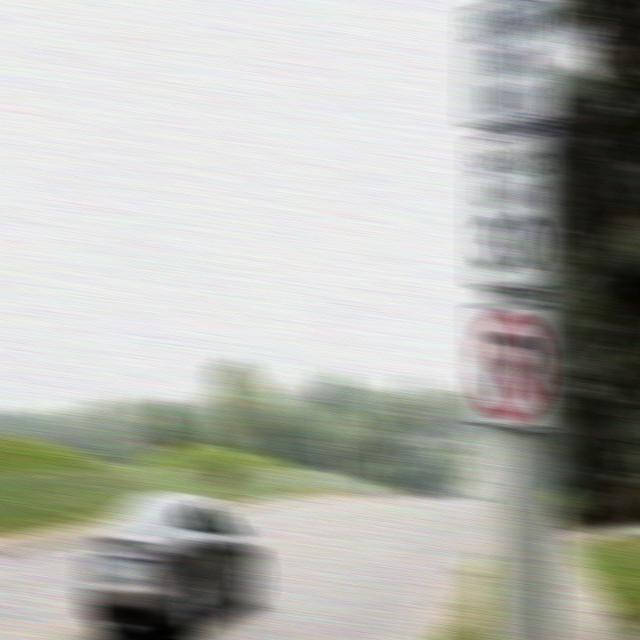speedLimit30: (474, 139, 549, 286)
